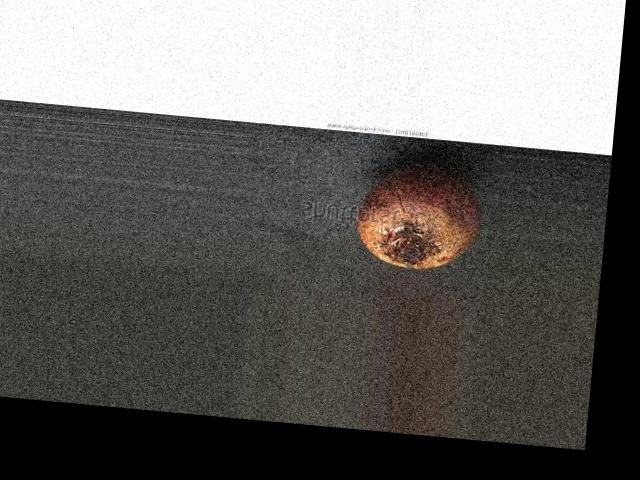beet: (355, 158, 487, 274)
